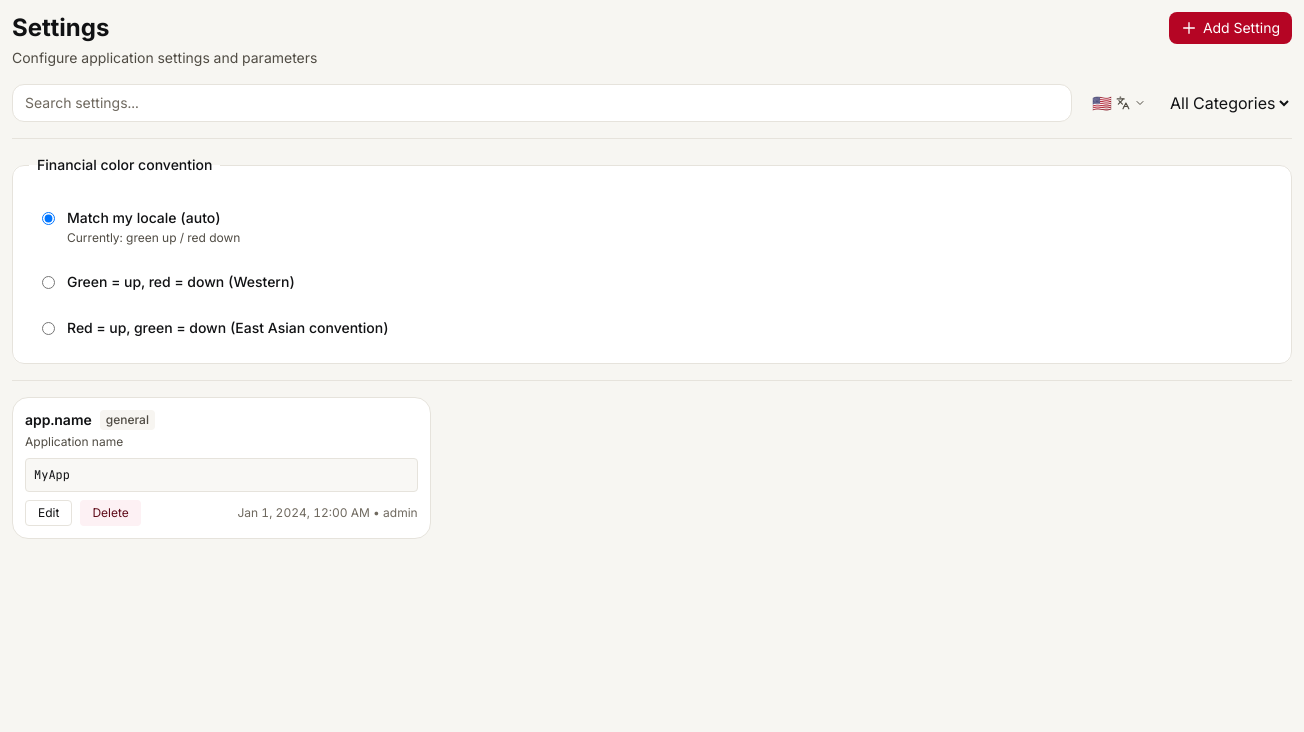
it: Settings › cancels editing and resets value
The width and height of the screenshot is (1304, 732).
Expected: the heading "app.name" is shown, 25,410 -> 92,430
Click the button "Edit" at (49, 513), box 25,500 -> 72,526
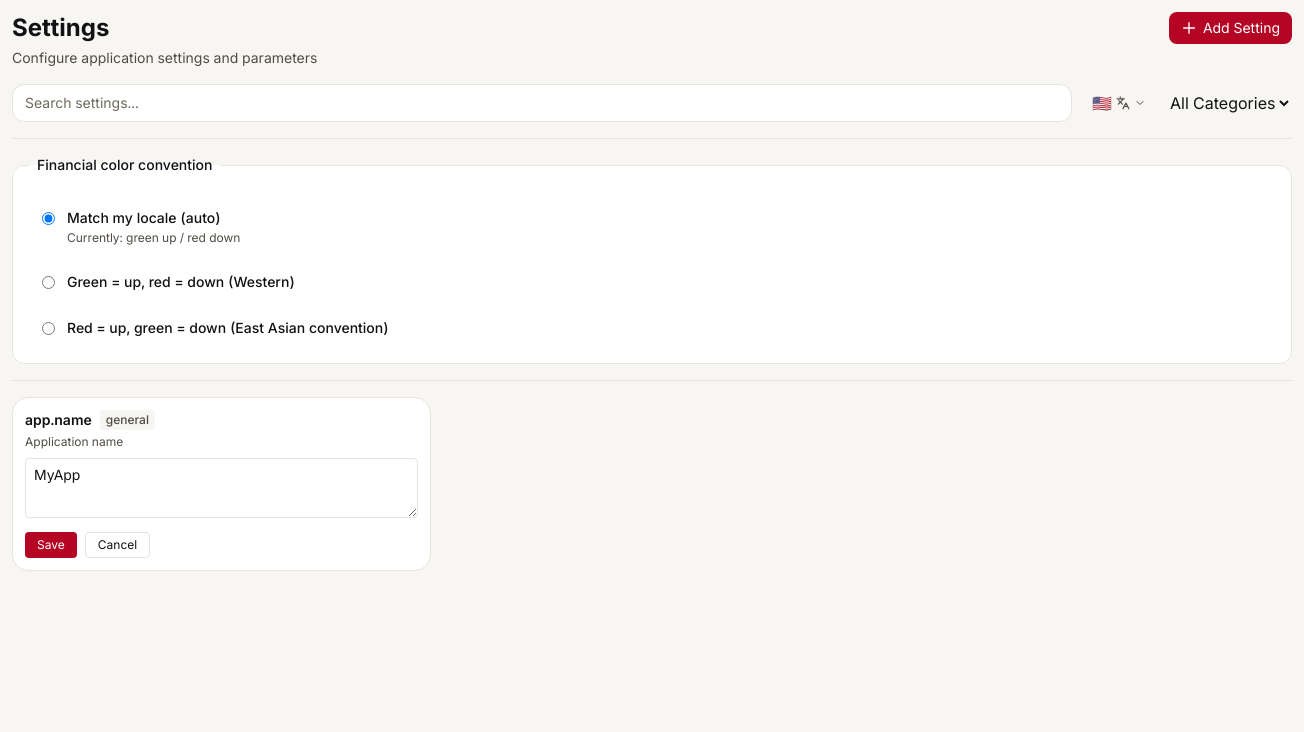
Replace the text in the text box with placeholder "Enter setting value..." with "ChangedValue" at (221, 488), box 25,458 -> 418,518
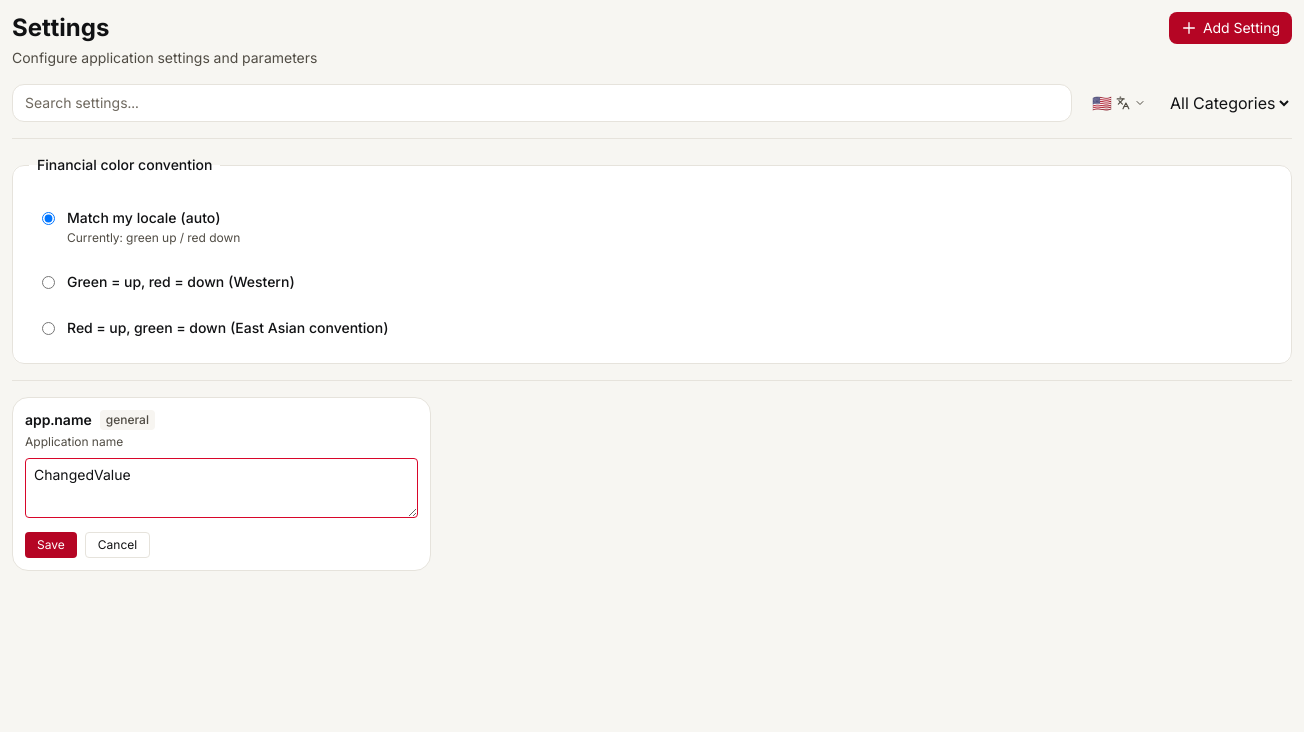
Click the button "Cancel" at (118, 545), box 85,532 -> 150,558
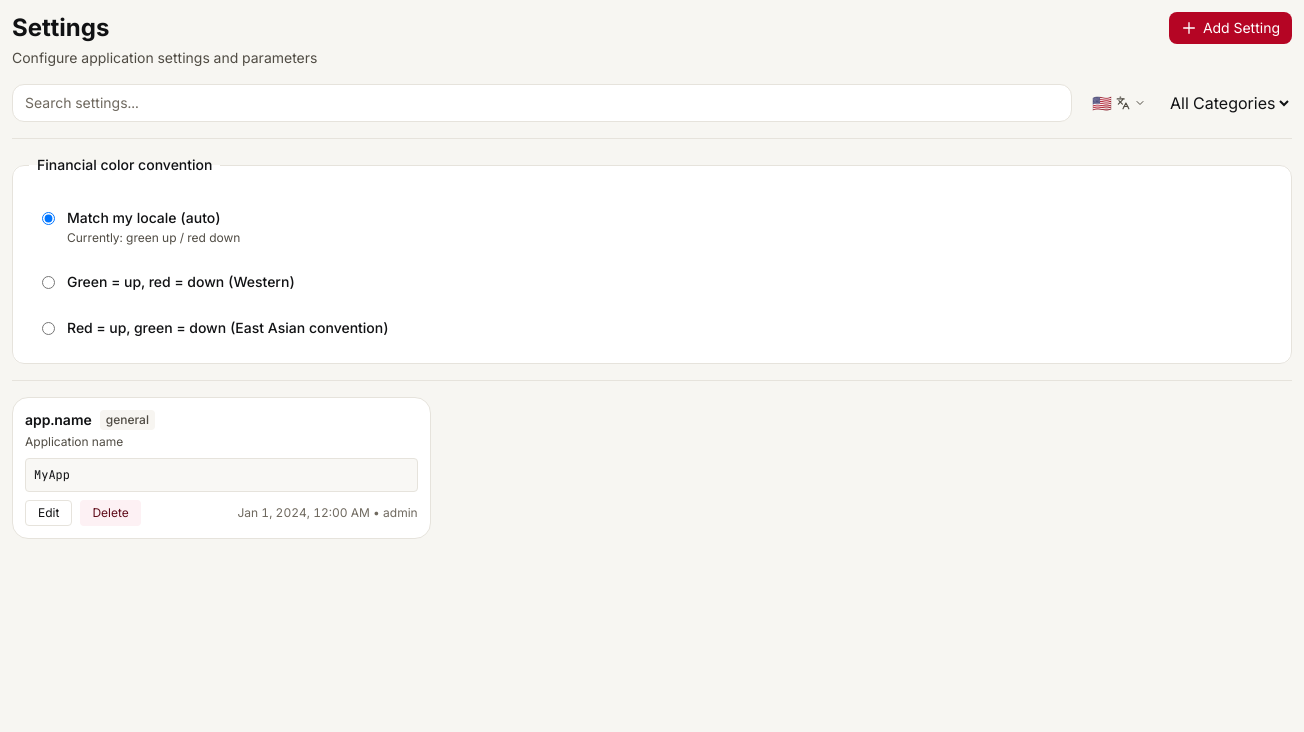
Now the button "Edit" is shown, box 25,500 -> 72,526
Now the button "Cancel" is gone
